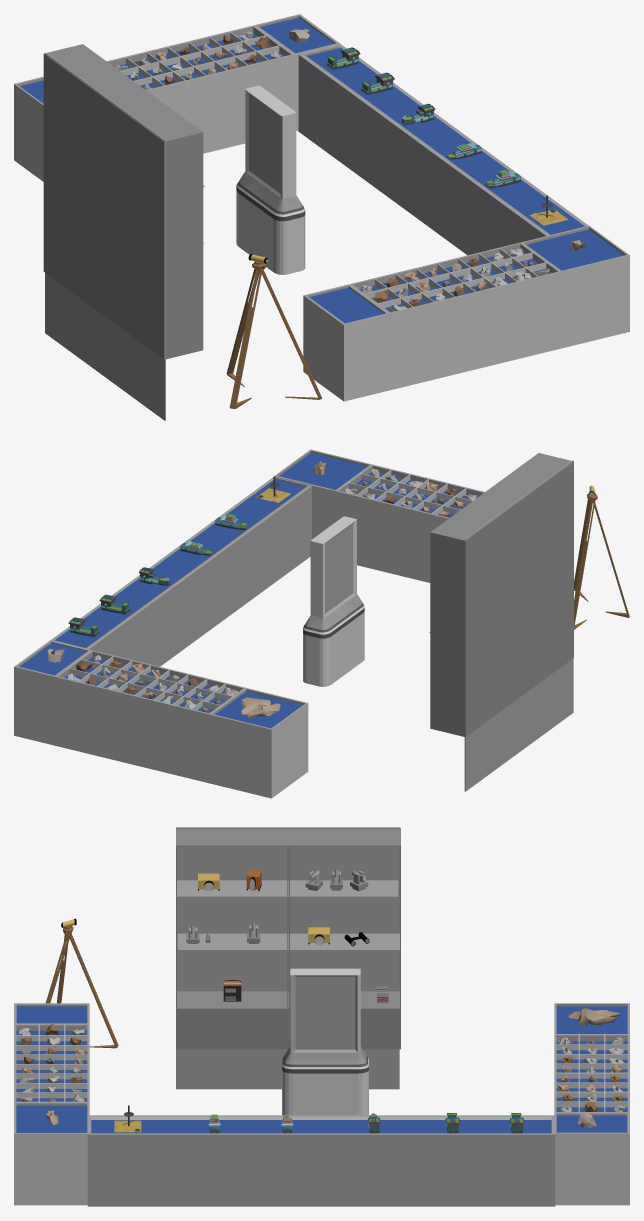
Rendered from ruangan7_gabungan.fbx.
3 views of the same model, one above another, from view 1: azimuth 30°, elevation 25°; view 2: azimuth 150°, elevation 25°; view 3: azimuth 270°, elevation 25° (orthographic). The views are drawn at different scales.
Parts seen in each view (by area): view 1: pCube30 (×2), pCube385, pCube388, pCube398, tentangtimahruangan7, pCube419, pCube420, alateksplorasi_ruangan7, pCube384 (×2), pCube383 (×2); view 2: pCube30 (×2), pCube385, pCube398, pCube388, tentangtimahruangan7, pCube420, pCube419, alateksplorasi_ruangan7, pCube383 (×2), pCube384 (×2), Urat_Timah5; view 3: pCube385, pCube30 (×2), pCube419, pCube420, tentangtimahruangan7, pCube388, pCube398, pCube392, pCube399, pCube391, pCube400, alateksplorasi_ruangan7 (+1 smaller).
Boxes of the visible parts, left/top/right/bottom form: pCube30 (×2): left=14, top=14, right=629, bottom=401; pCube385: left=298, top=44, right=588, bottom=255; pCube388: left=103, top=87, right=203, bottom=359; pCube398: left=43, top=44, right=141, bottom=314; tentangtimahruangan7: left=236, top=85, right=305, bottom=274; pCube419: left=101, top=94, right=165, bottom=420; pCube420: left=45, top=53, right=108, bottom=378; alateksplorasi_ruangan7: left=226, top=254, right=321, bottom=408; pCube384 (×2): left=134, top=45, right=533, bottom=297; pCube383 (×2): left=120, top=35, right=547, bottom=307; pCube30 (×2): left=14, top=449, right=484, bottom=798; pCube385: left=51, top=477, right=311, bottom=666; pCube398: left=430, top=493, right=520, bottom=737; pCube388: left=484, top=453, right=573, bottom=696; tentangtimahruangan7: left=303, top=516, right=364, bottom=686; pCube420: left=464, top=498, right=522, bottom=791; pCube419: left=516, top=460, right=573, bottom=749; alateksplorasi_ruangan7: left=574, top=485, right=629, bottom=629; pCube383 (×2): left=67, top=473, right=472, bottom=709; pCube384 (×2): left=80, top=482, right=460, bottom=700; Urat_Timah5: left=241, top=697, right=280, bottom=718; pCube385: left=87, top=1115, right=555, bottom=1206; pCube30 (×2): left=14, top=1003, right=629, bottom=1205; pCube419: left=176, top=827, right=293, bottom=1089; pCube420: left=282, top=827, right=399, bottom=1089; tentangtimahruangan7: left=282, top=968, right=368, bottom=1115; pCube388: left=176, top=828, right=289, bottom=1049; pCube398: left=287, top=827, right=400, bottom=1049; pCube392: left=177, top=933, right=288, bottom=951; pCube399: left=289, top=933, right=400, bottom=951; pCube391: left=176, top=880, right=287, bottom=897; pCube400: left=287, top=880, right=398, bottom=897; alateksplorasi_ruangan7: left=45, top=918, right=118, bottom=1048.
Size of the model in its own units: 8.66 by 6.11 by 13.04.
